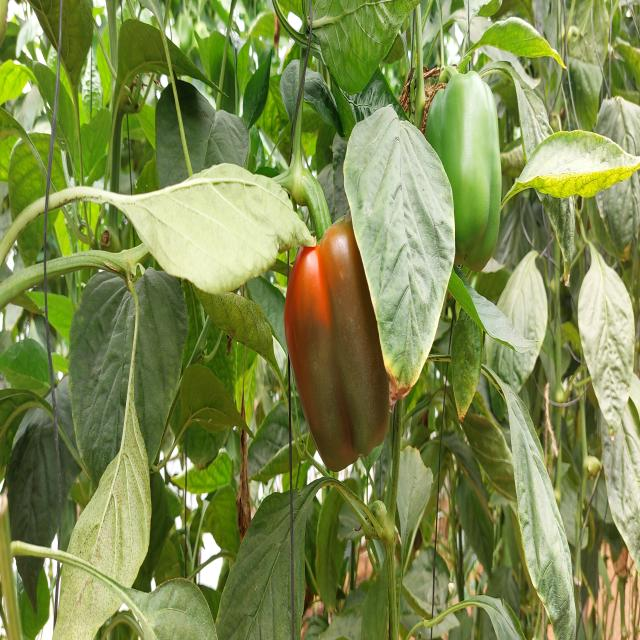BrownishRed--Can-be-Harvested: (285, 230, 397, 462)
Green--Not-ready-to-harvest: (425, 73, 504, 280)
